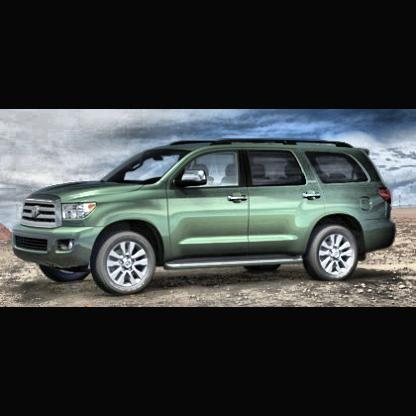Toyota Sequoia SUV 2012: (12, 139, 399, 298)
